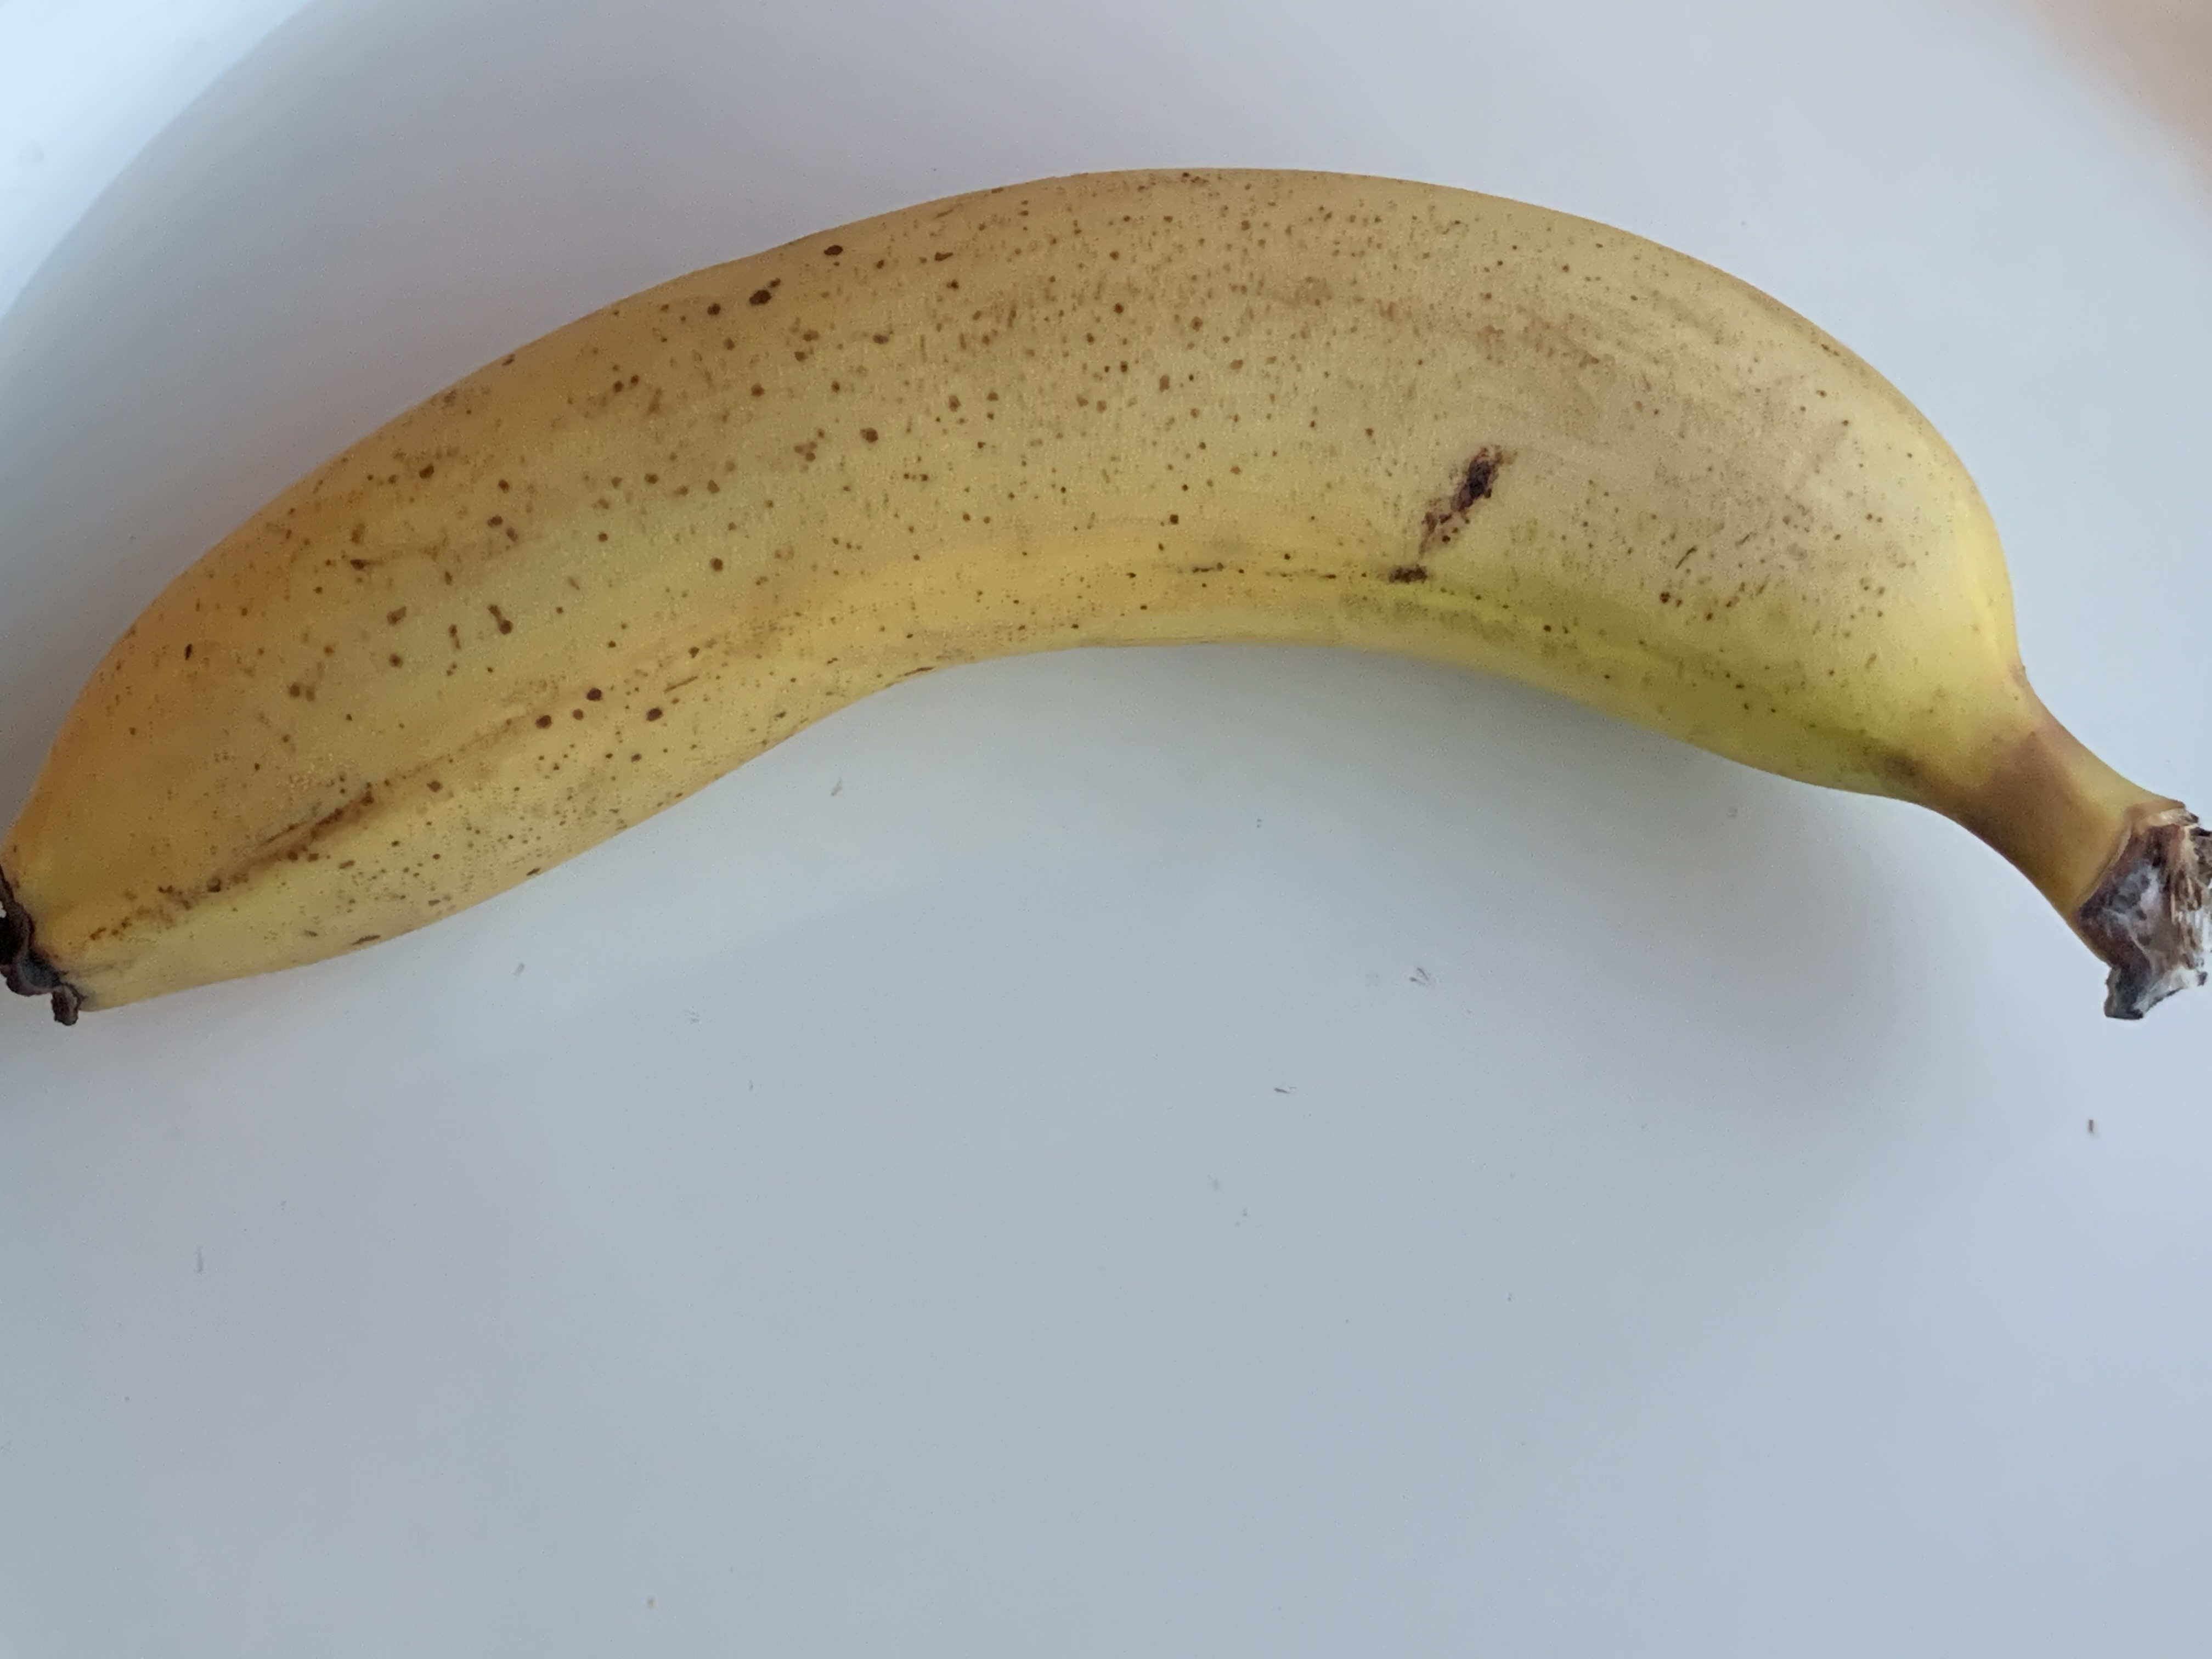banana: (17, 167, 2212, 1112)
